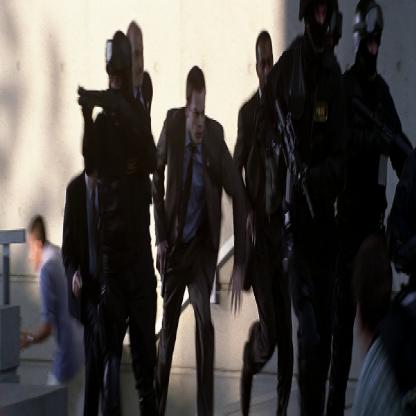Gun: (271, 92, 317, 227), (350, 89, 416, 182), (159, 242, 168, 302), (75, 258, 83, 291)
